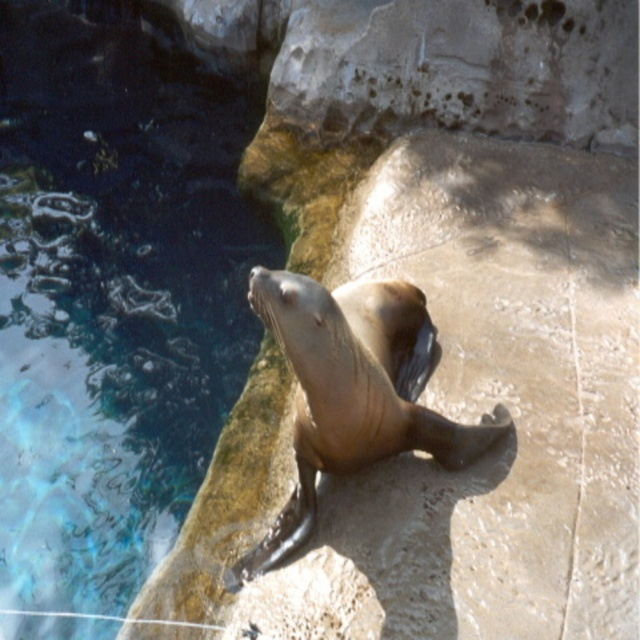Sea lion: (228, 272, 511, 587)
